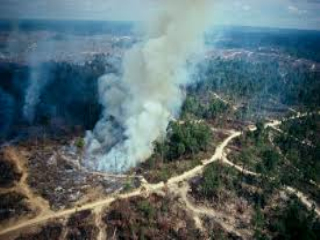smoke: (76, 7, 216, 182), (11, 39, 52, 137)
